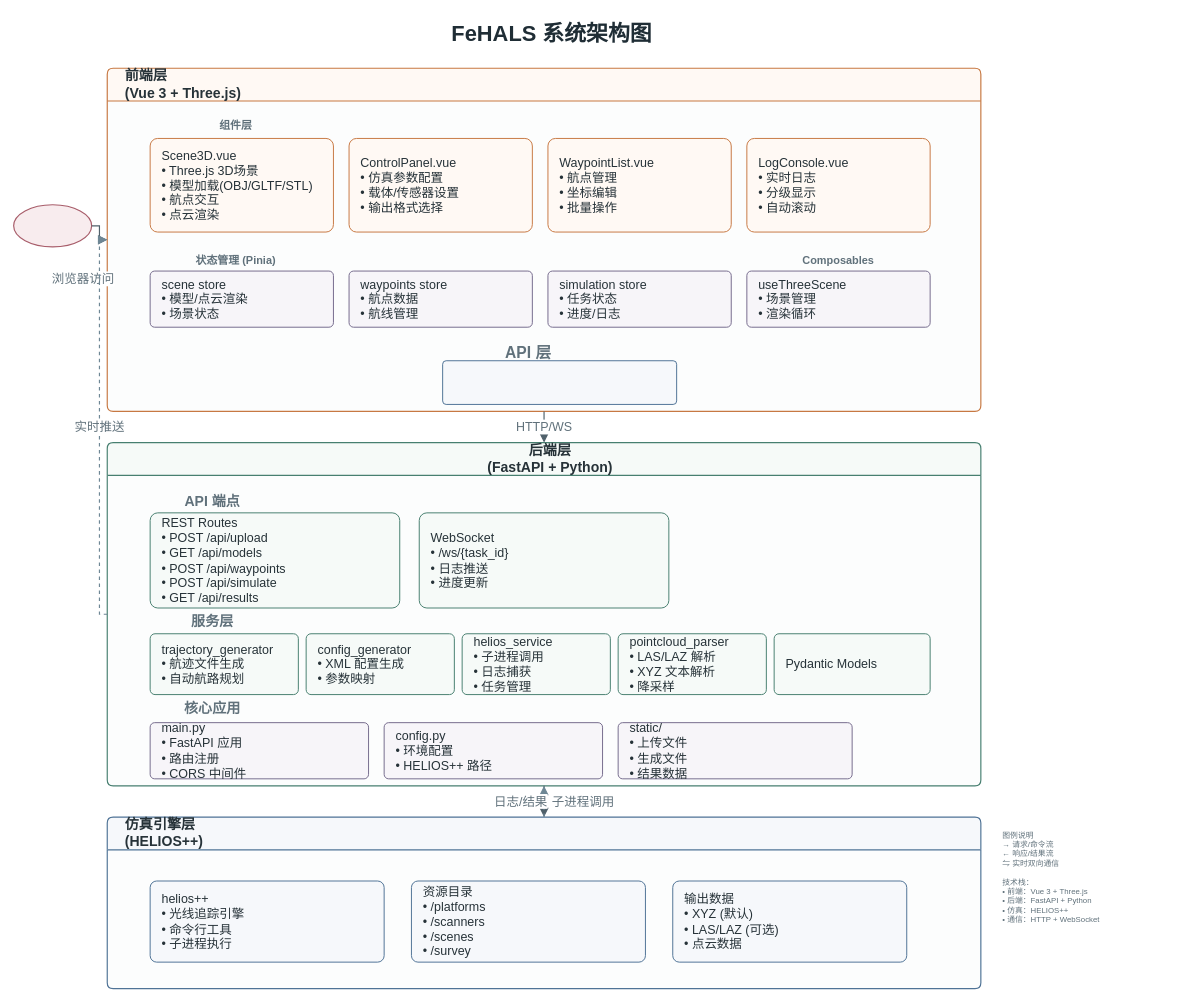
This 1178x1002 diagram has some shape labels left out. The centre of each missing label's shape, as x and y in pixels:
"useHeliosAPI • REST API 客户端 • WebSocket 连接" belongs at point (559, 382).
"用户" belongs at point (52, 225).
